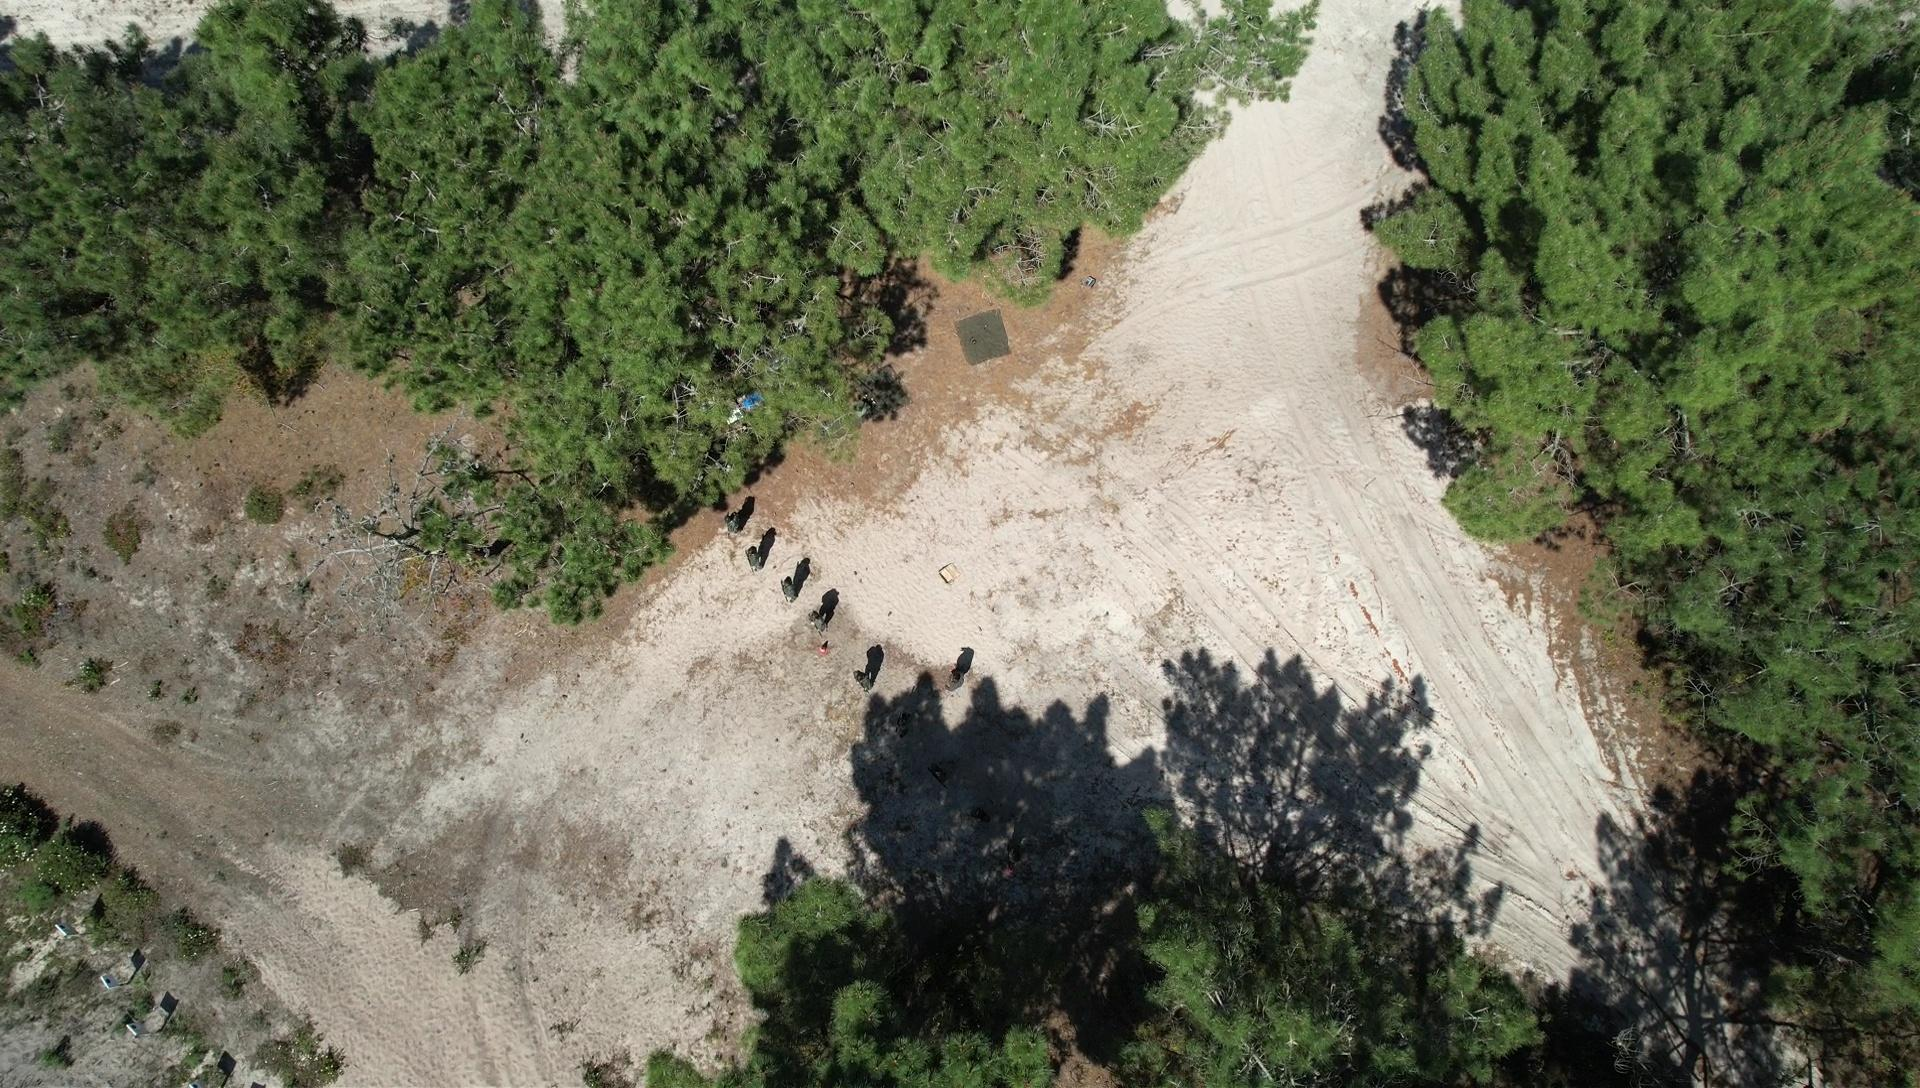Soldier: (938, 666, 971, 697), (894, 708, 920, 746), (809, 605, 838, 634), (854, 668, 882, 694), (724, 508, 750, 535), (933, 757, 954, 790), (746, 542, 769, 570), (970, 804, 994, 830), (782, 579, 801, 601)
